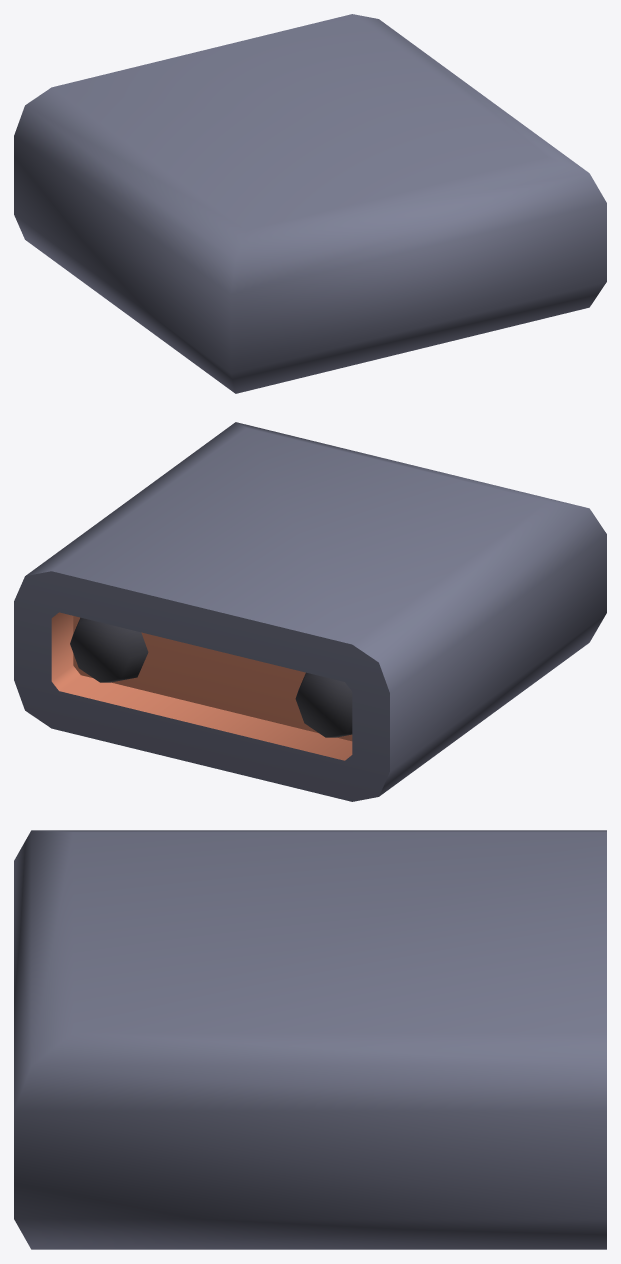
File: conveyor-junction-t.obj
3 renders of one model, top to bottom at view 1: azimuth 30°, elevation 25°; view 2: azimuth 150°, elevation 25°; view 3: azimuth 270°, elevation 25°, orthographic. The views are drawn at different scales.
Visible parts, largest first — view 1: conveyor-junction-t; view 2: conveyor-junction-t; view 3: conveyor-junction-t.
Part boxes in pixels (left/top/right/bottom): conveyor-junction-t: left=14, top=14, right=606, bottom=393; conveyor-junction-t: left=14, top=422, right=606, bottom=801; conveyor-junction-t: left=14, top=830, right=606, bottom=1249.
Size of the model in its own units: 1 by 0.4 by 1.
